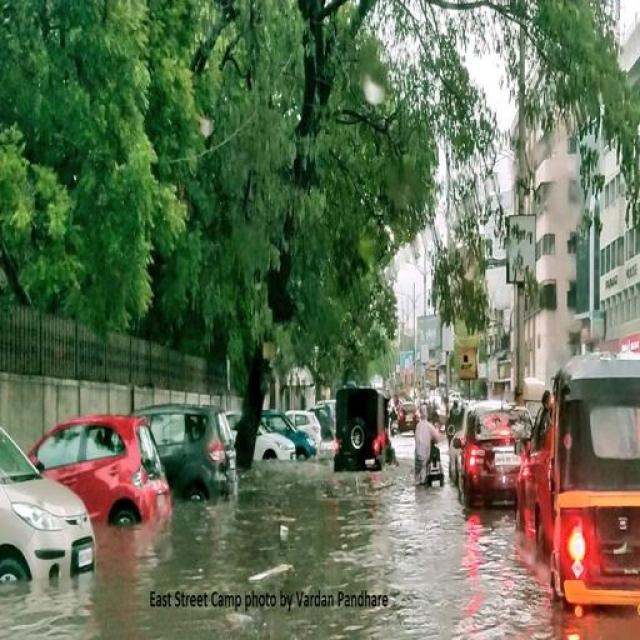puddle: (176, 492, 547, 640), (5, 579, 400, 640), (103, 526, 205, 597)
